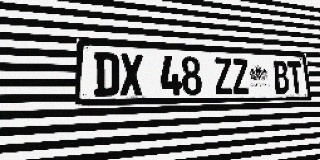4: (160, 55, 182, 95)
8: (181, 56, 202, 95)
B: (272, 60, 290, 94)
D: (94, 52, 119, 96)
T: (287, 61, 304, 93)
X: (120, 53, 143, 96)
Z: (213, 57, 233, 95), (231, 58, 250, 94)
